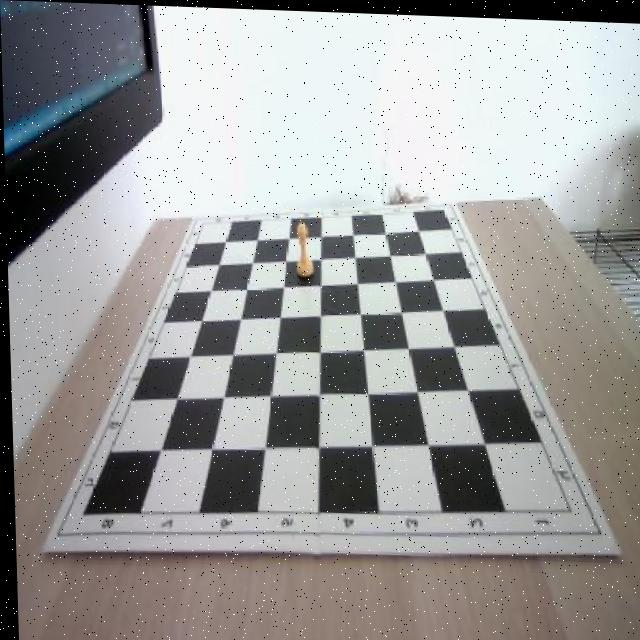white-knight: (293, 219, 314, 277)
